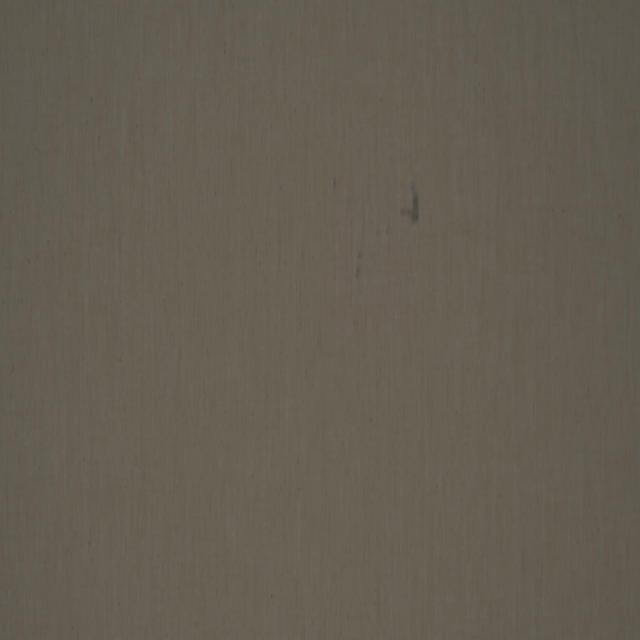dirty: (400, 182, 420, 224), (356, 251, 361, 279), (332, 177, 336, 189)
